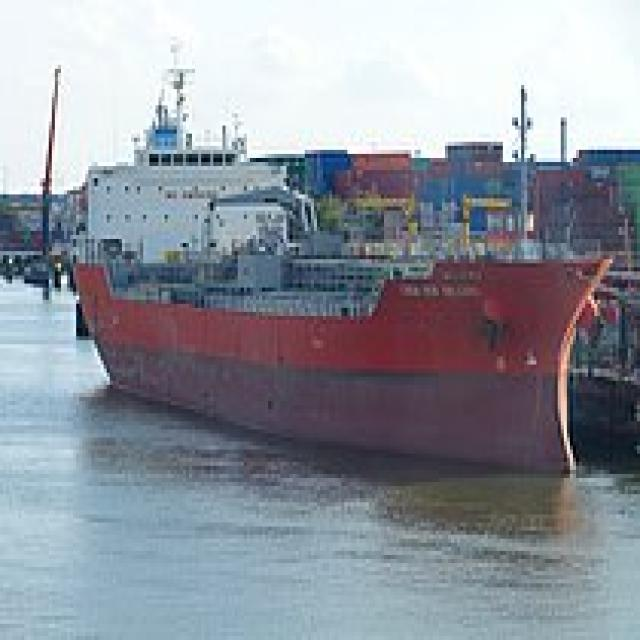Tanker: (67, 65, 610, 470)
